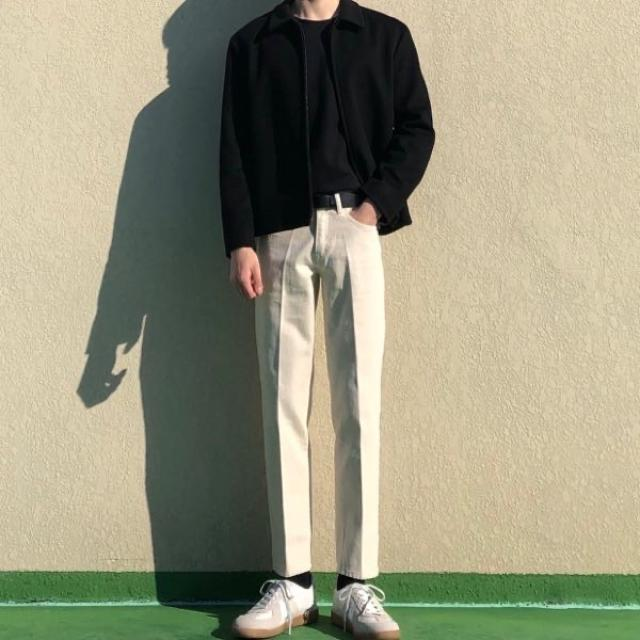jacket: (221, 0, 436, 251), (252, 197, 385, 576)
